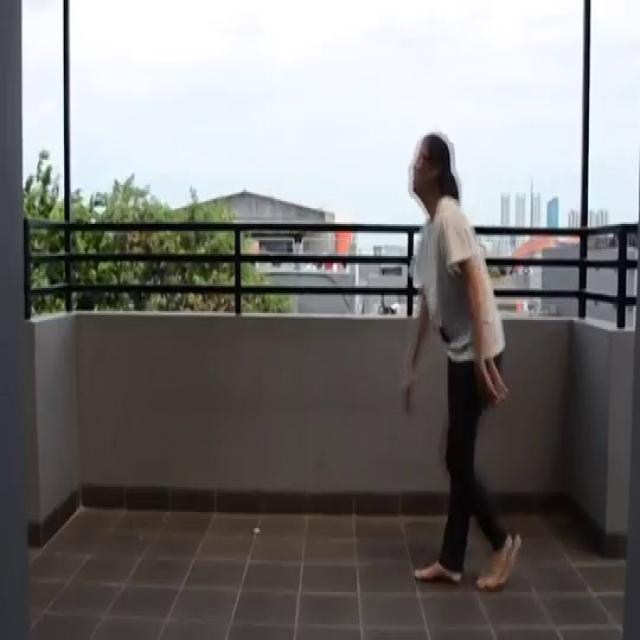normal: (393, 124, 528, 594)
